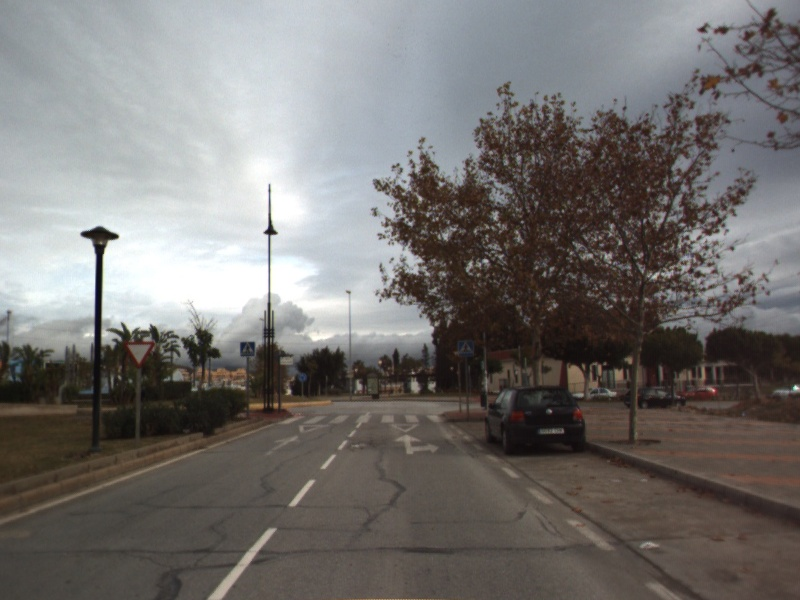STRAIGHT: (261, 433, 303, 458)
STRAIGHT_RIGHT: (392, 433, 442, 456)
